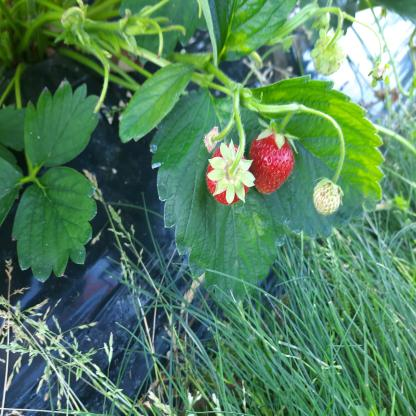ripe: (250, 134, 296, 196), (208, 147, 250, 201)
unripe: (316, 177, 341, 217)
